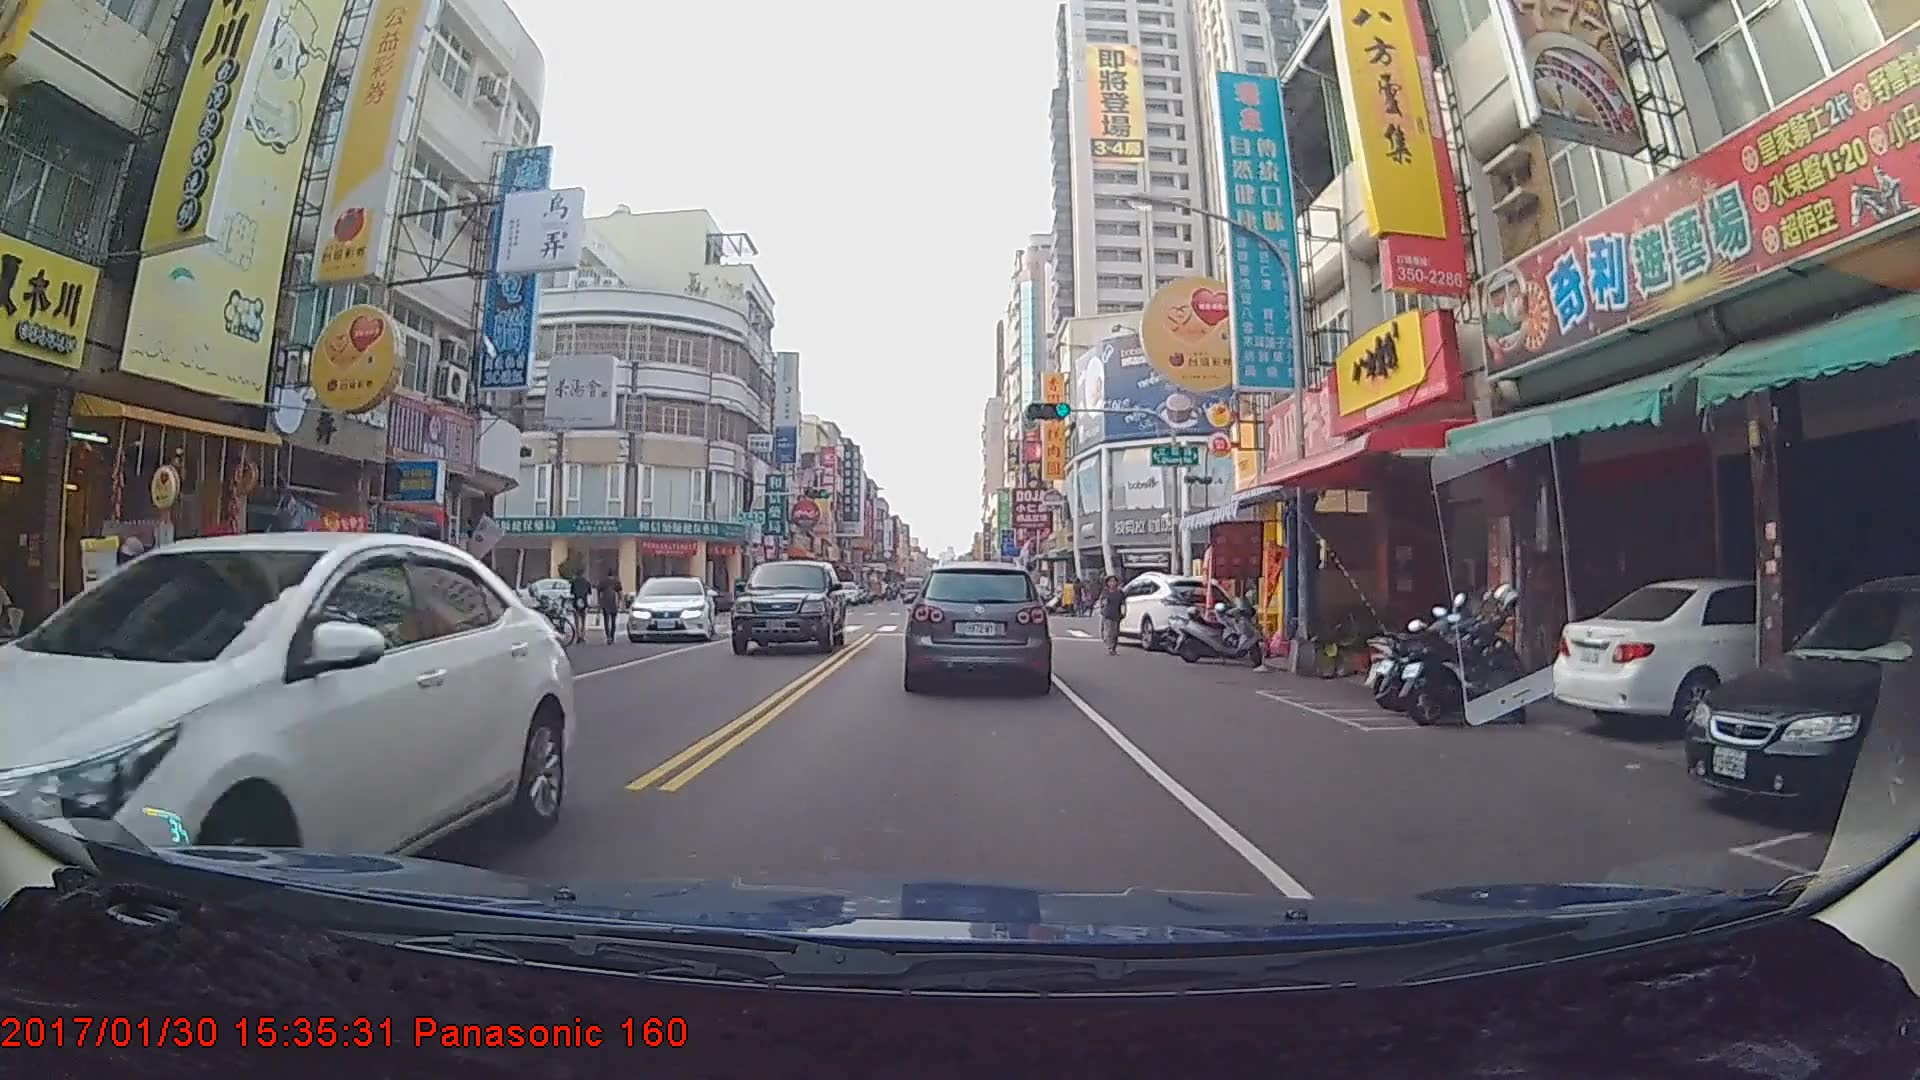pedestrian: (1097, 574, 1128, 655), (598, 566, 626, 641), (570, 567, 593, 643)
vehicle: (0, 529, 575, 942), (1680, 566, 1920, 823), (1548, 575, 1900, 737), (907, 560, 1048, 692), (1093, 574, 1241, 652), (733, 556, 845, 655), (627, 573, 714, 640), (901, 576, 927, 604)
